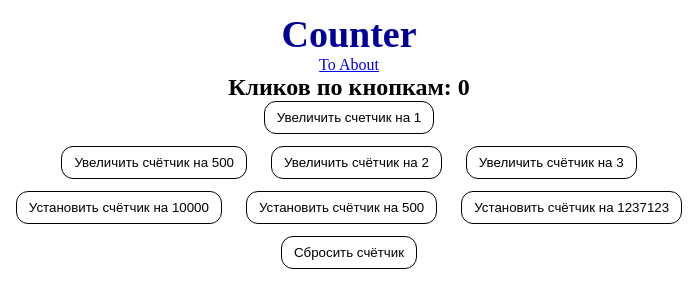
Test: <Counter /> › check incCounterByOne
Expected: the heading "Кликов по кнопкам: 0" is shown, left=228, top=74, right=470, bottom=101
Click the button with test id "incCounter by 1": (349, 118) left=264, top=101, right=434, bottom=134
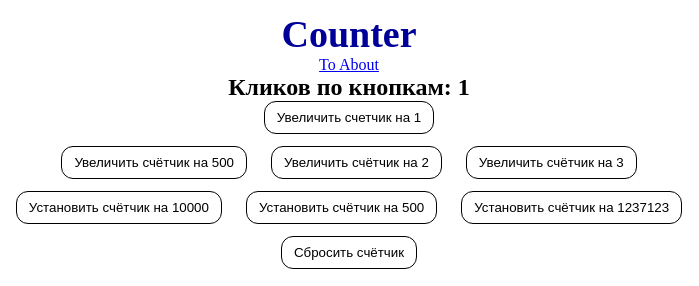
Now the heading "Кликов по кнопкам: 1" is shown, box left=228, top=74, right=470, bottom=101
